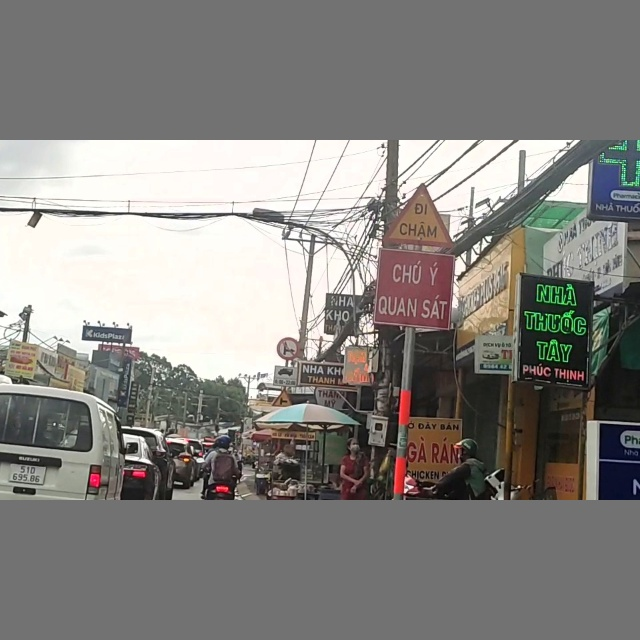P.139: (275, 333, 305, 362)
S.505a*Xe tai: (274, 367, 298, 386)
W.205b: (267, 389, 298, 409)
W.245a: (384, 184, 461, 249)
